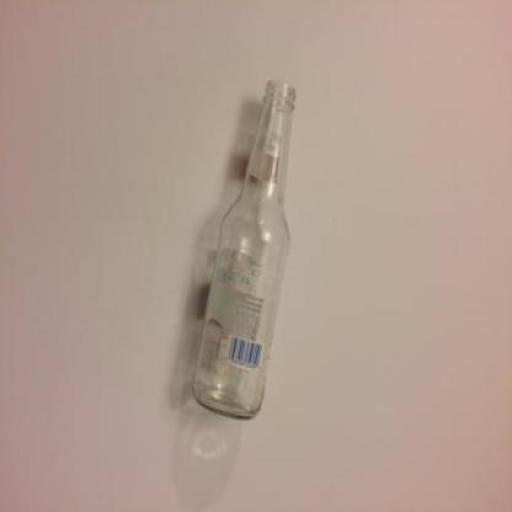glass: (194, 77, 298, 419)
